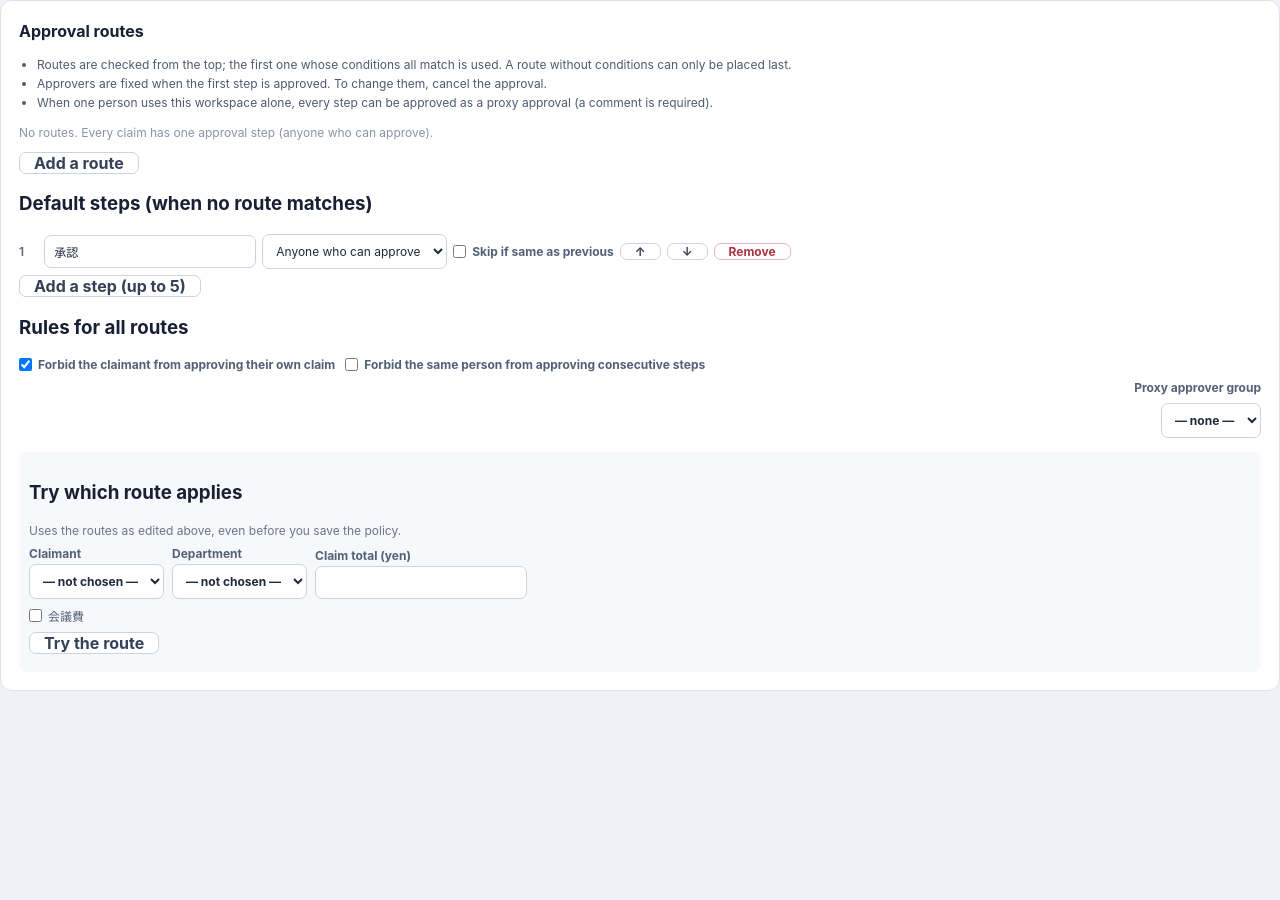
Test case: ApprovalRoutesSection › 異常: 試算の 400 は原因と、経路の設定を直す次の一手を出す
Click the button "Try the route".
click(94, 643)  # box [29, 632, 159, 654]
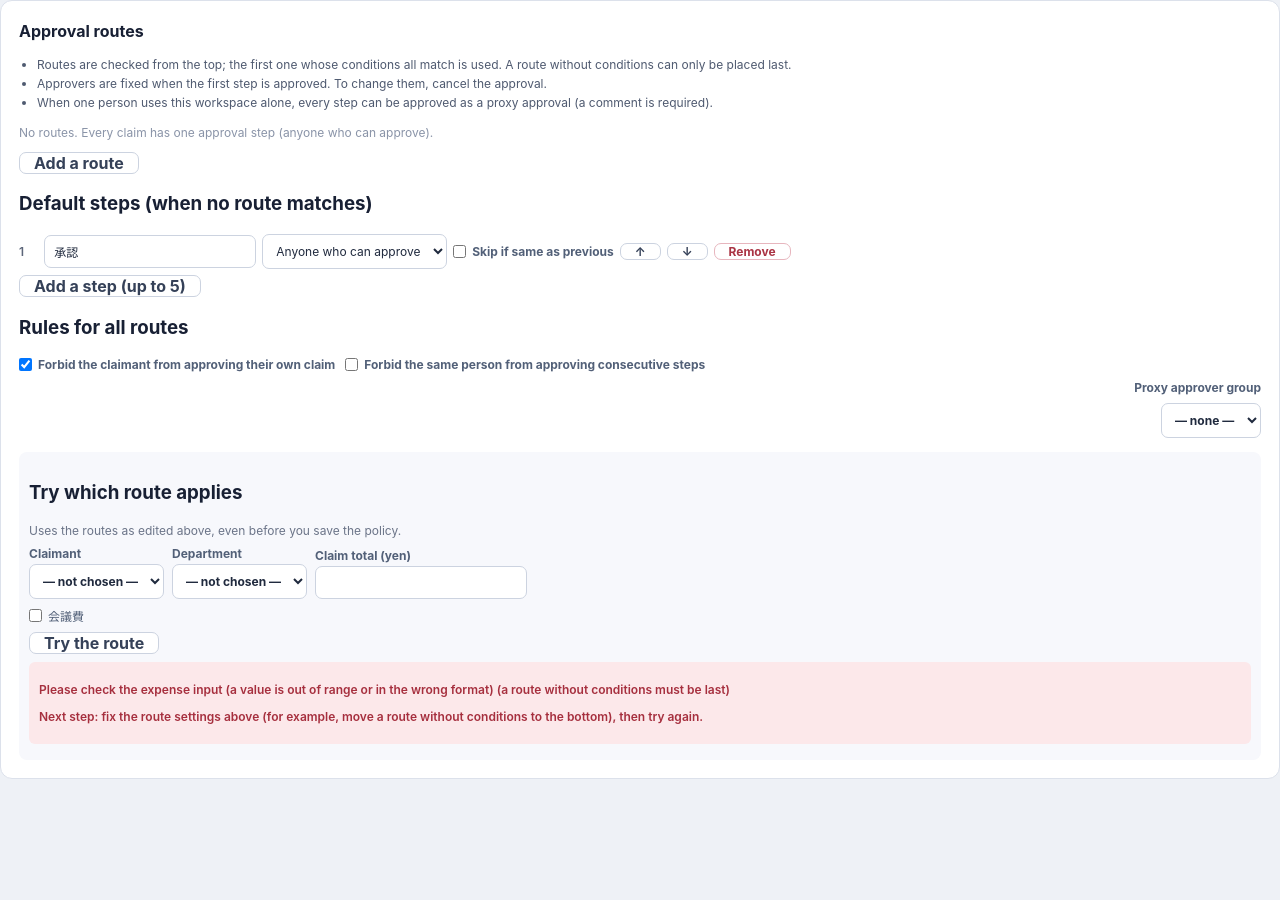
Expected: the text "Next step: fix the route settings above" is shown, [39, 709, 703, 724]
